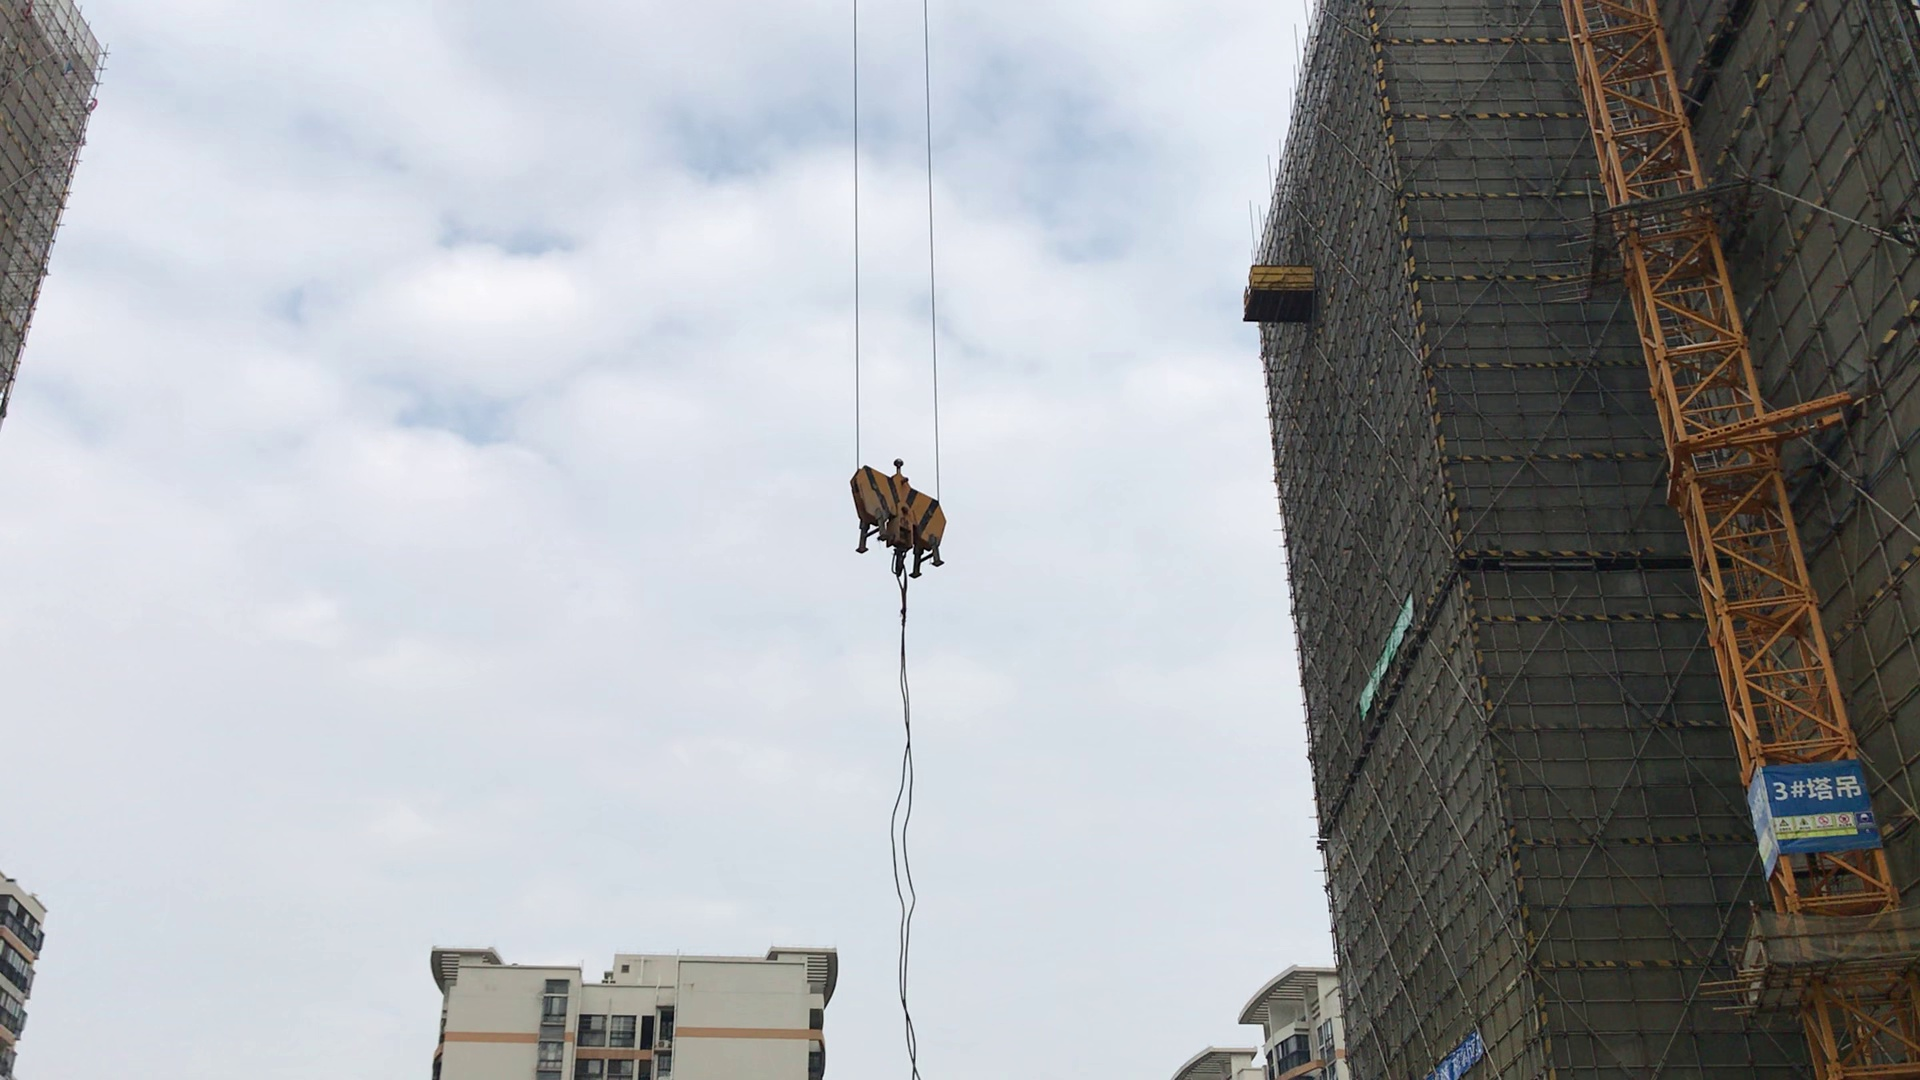hook: (852, 458, 948, 580)
slogan: (1361, 600, 1412, 715), (1408, 1026, 1484, 1080), (1778, 810, 1858, 843)
